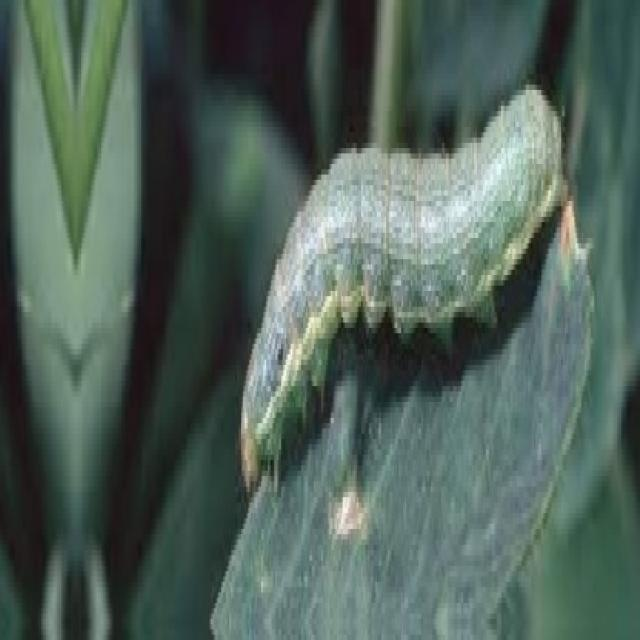armyworm: (237, 80, 572, 498)
